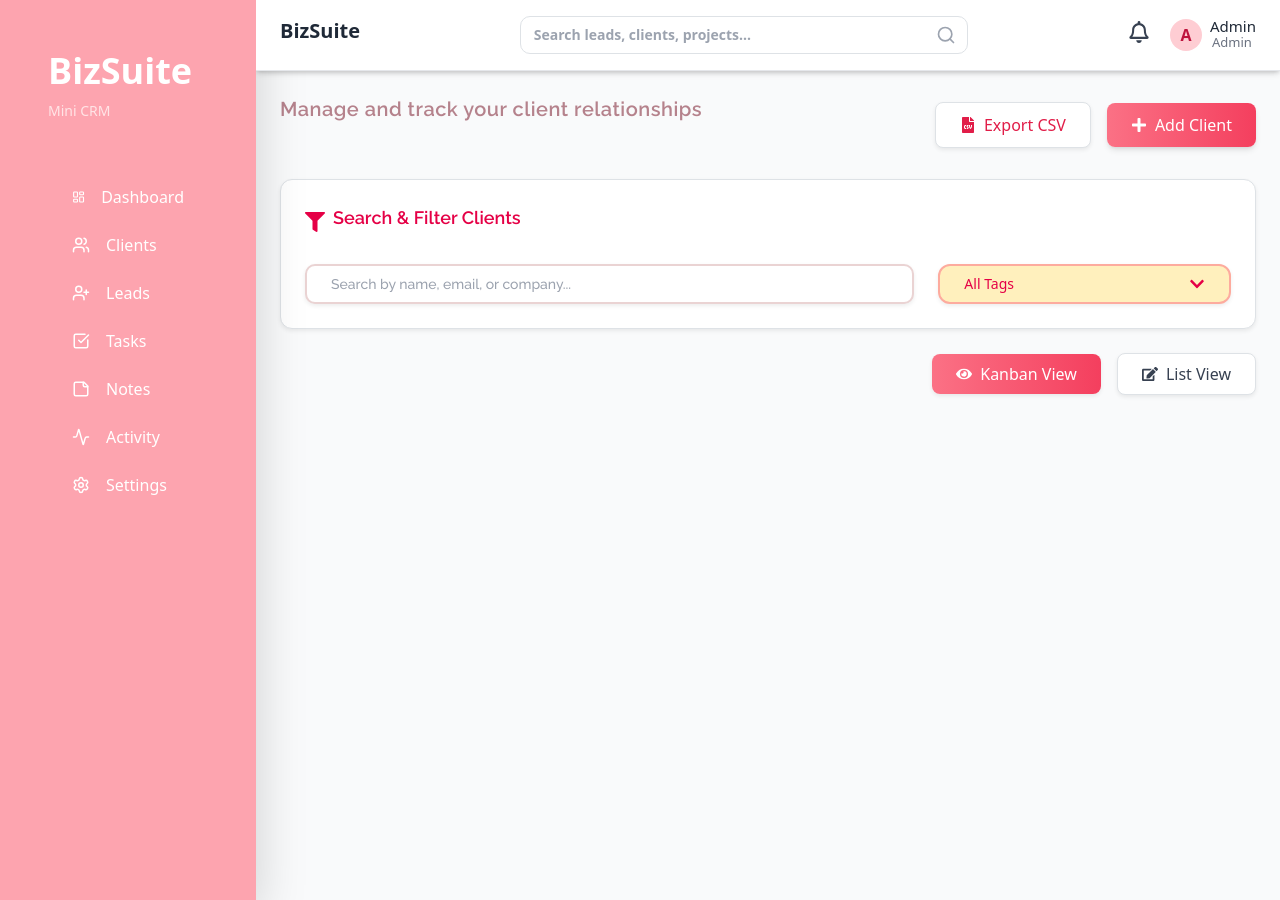
it: Clients page (frontend) › opens add form and fetches staff list when Add Client clicked
Click the button "Add Client" at [1181, 125], box 1107,103 -> 1256,147
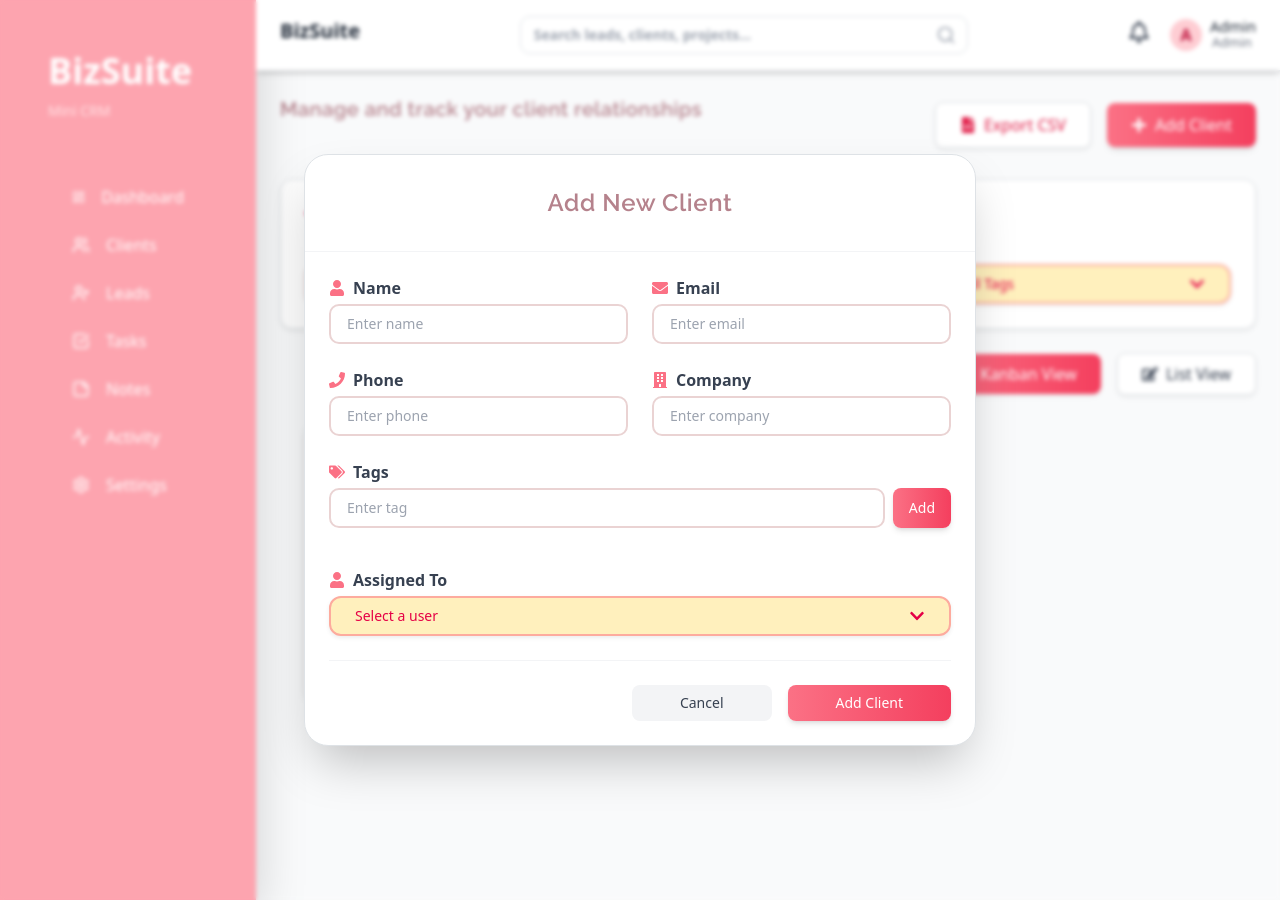
Result: the heading "Add New Client" is shown at 548,188 -> 732,217
